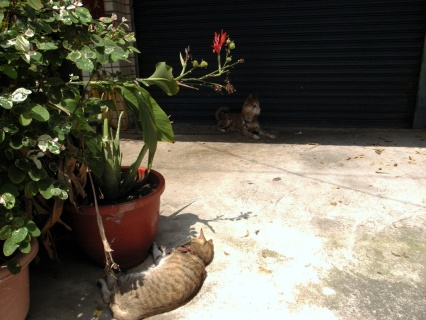Cat: (95, 224, 214, 319), (213, 91, 278, 141)
